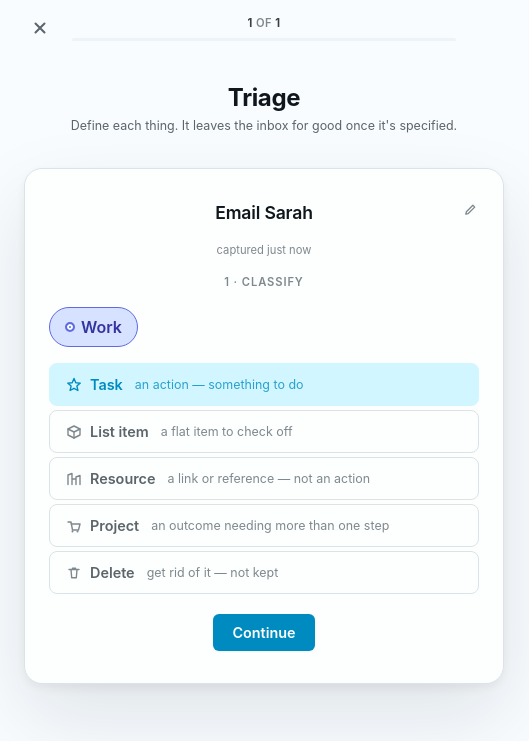
Test: TriagePage › starts on Classify and advances straight to Spec with one Continue
The image size is (529, 741).
Expected: the text "1 · Classify" is shown, x1=224 y1=275 x2=304 y2=289
Expected: the button "Task an action — something to do" is shown, x1=49 y1=363 x2=479 y2=406
Click the button "Continue": (264, 632) x1=213 y1=614 x2=315 y2=651
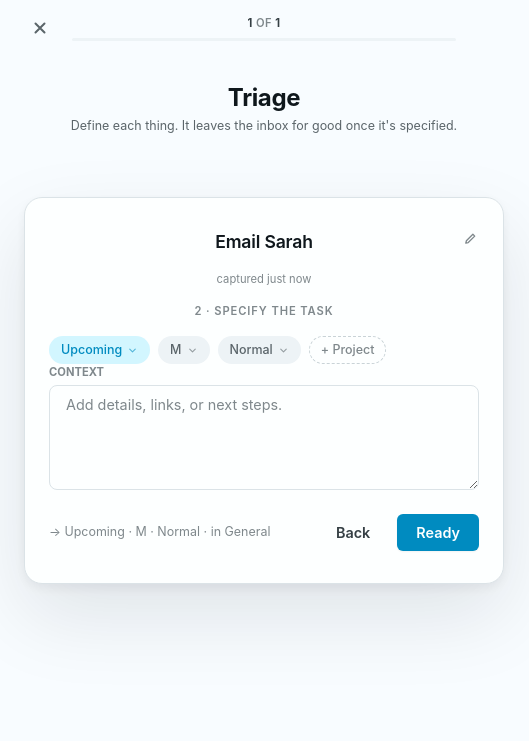
Expected: the text "2 · Specify the task" is shown, x1=194 y1=305 x2=334 y2=319
